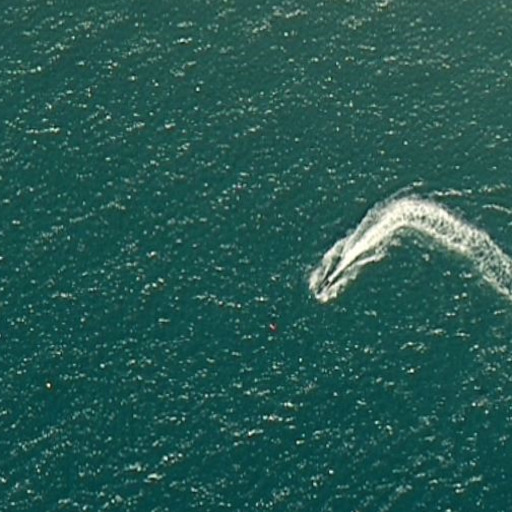ship: (309, 273, 338, 303)
